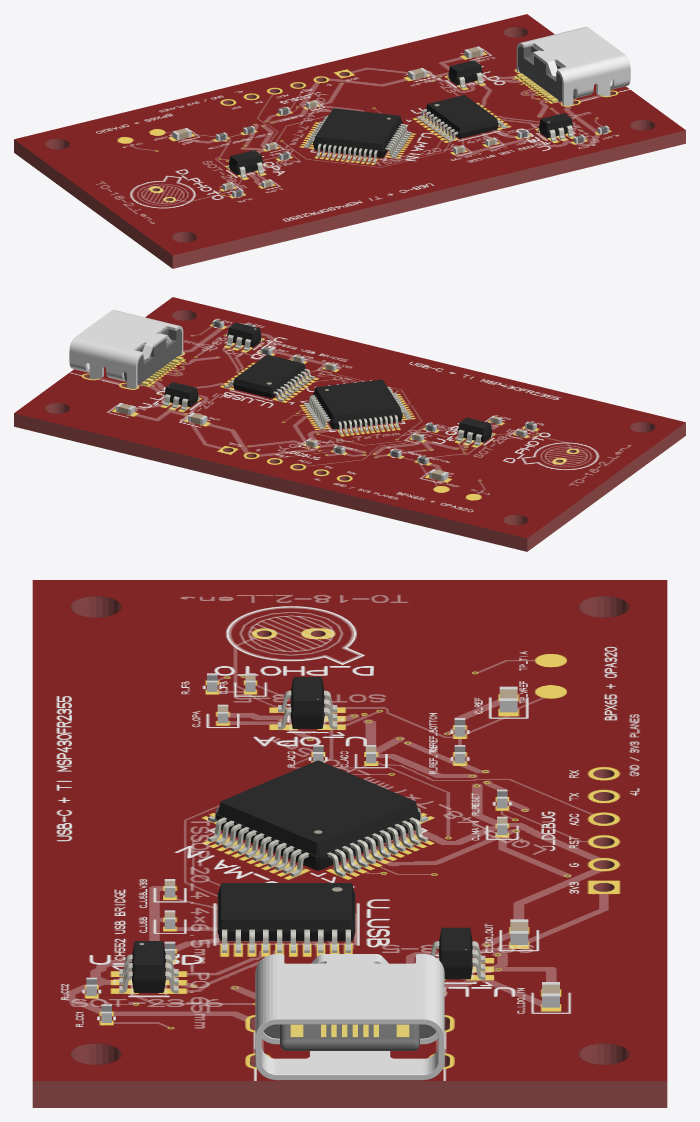
3 views of the same model, one above another, from view 1: azimuth 30°, elevation 25°; view 2: azimuth 150°, elevation 25°; view 3: azimuth 270°, elevation 25° (orthographic). The views are drawn at different scales.
Visible parts, largest first — view 1: Box0, J1, U_MAIN, U_USB, U_ESD, U_LDO, U_OPA; view 2: Box0, J1, U_MAIN, U_USB, U_ESD, U_LDO, U_OPA; view 3: Box0, J1, U_MAIN, U_USB, U_ESD, U_OPA, U_LDO.
Boxes of the visible parts, <box> form: Box0: <box>14,14,685,268</box>; J1: <box>516,27,630,105</box>; U_MAIN: <box>304,108,411,163</box>; U_USB: <box>416,95,507,141</box>; U_ESD: <box>537,113,574,141</box>; U_LDO: <box>447,60,483,88</box>; U_OPA: <box>227,150,264,178</box>; Box0: <box>14,297,685,551</box>; J1: <box>69,310,183,388</box>; U_MAIN: <box>304,379,411,434</box>; U_USB: <box>224,354,314,401</box>; U_ESD: <box>226,322,262,350</box>; U_LDO: <box>163,382,199,410</box>; U_OPA: <box>456,417,493,445</box>; Box0: <box>32,580,667,1107</box>; J1: <box>255,954,444,1080</box>; U_MAIN: <box>208,760,428,876</box>; U_USB: <box>217,883,355,952</box>; U_ESD: <box>119,941,178,993</box>; U_OPA: <box>278,677,337,729</box>; U_LDO: <box>431,927,485,979</box>.
Size of the model in its own units: 56.04 by 4.65 by 30.
13 materials, 2 textured.
